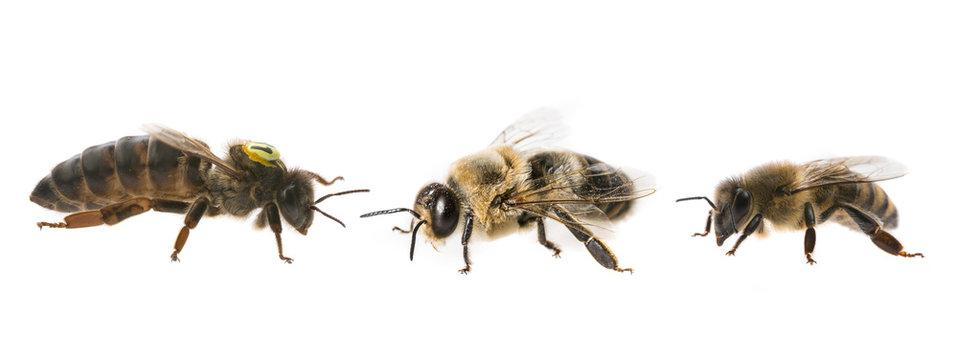Queen-Bee: (18, 111, 361, 281)
worker-bee: (360, 110, 655, 272), (676, 156, 922, 263)
